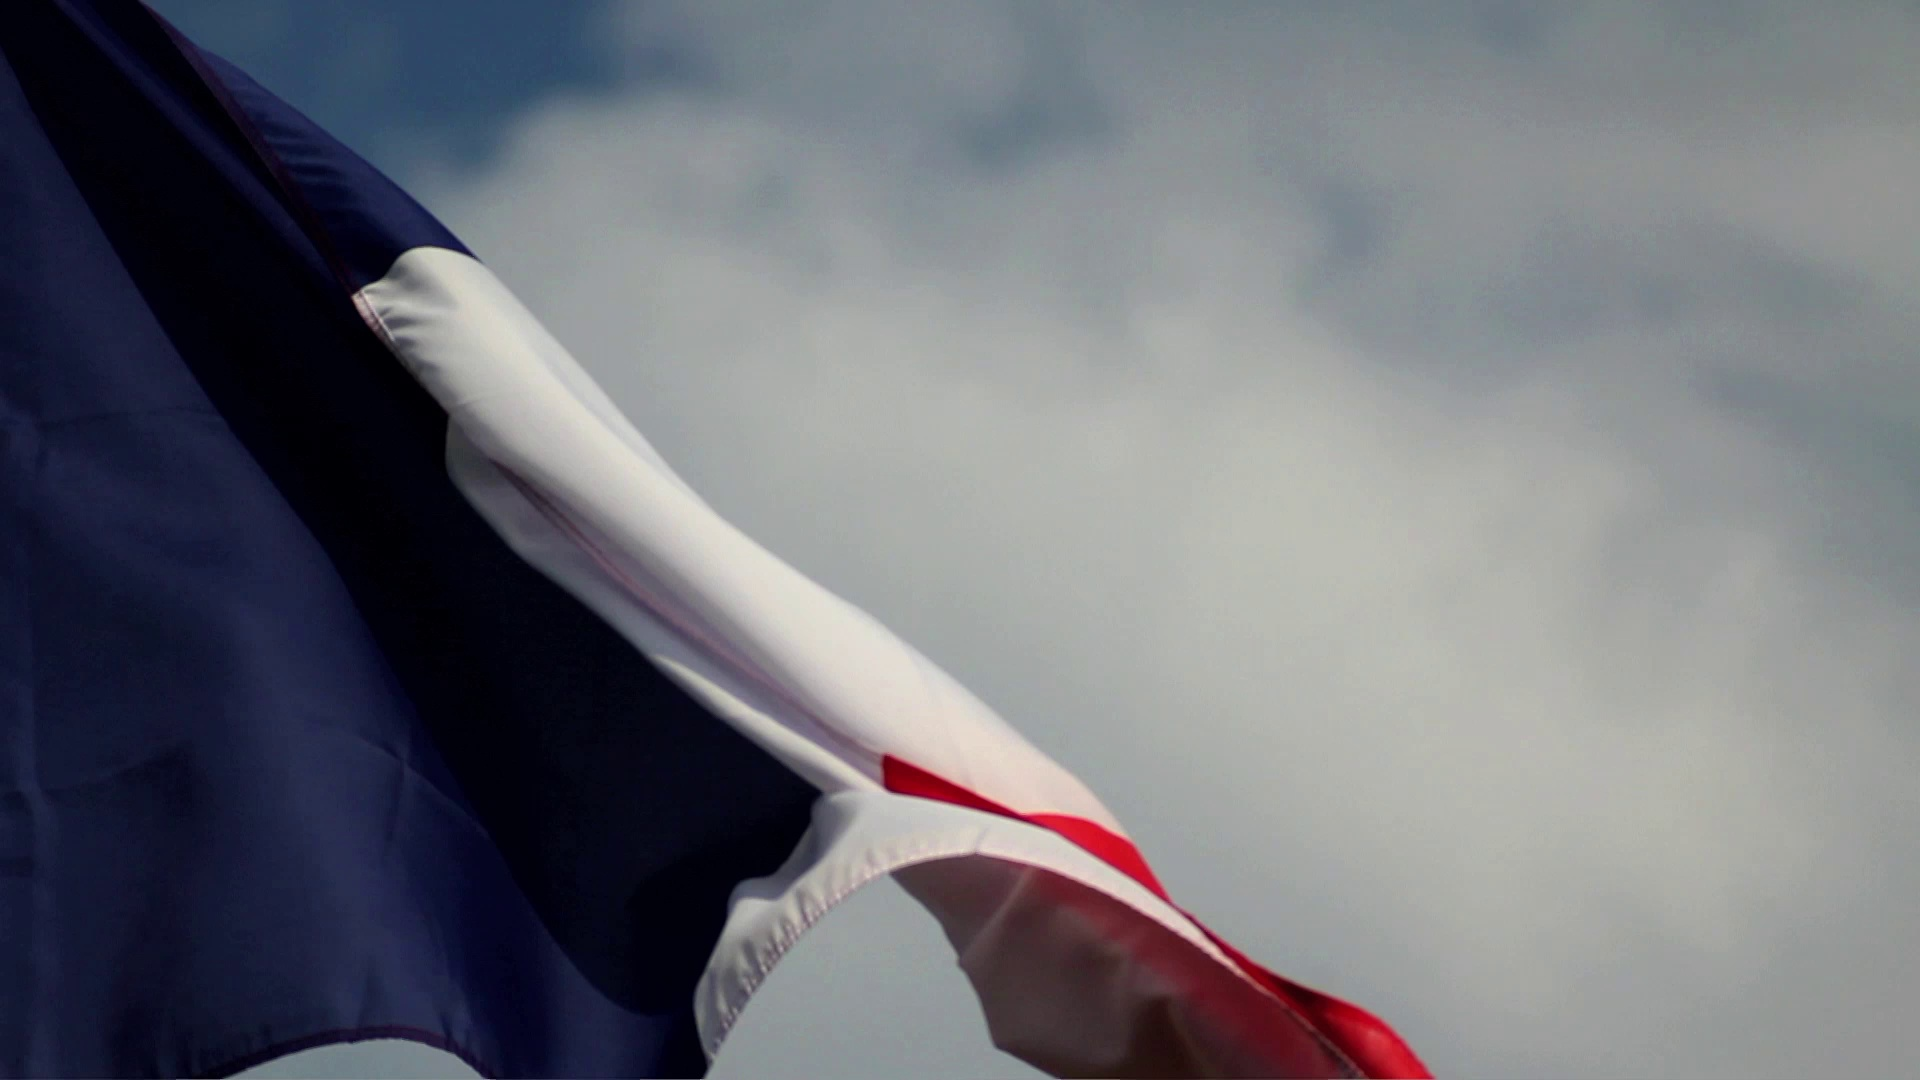French Flag: (1, 1, 1435, 1080)
